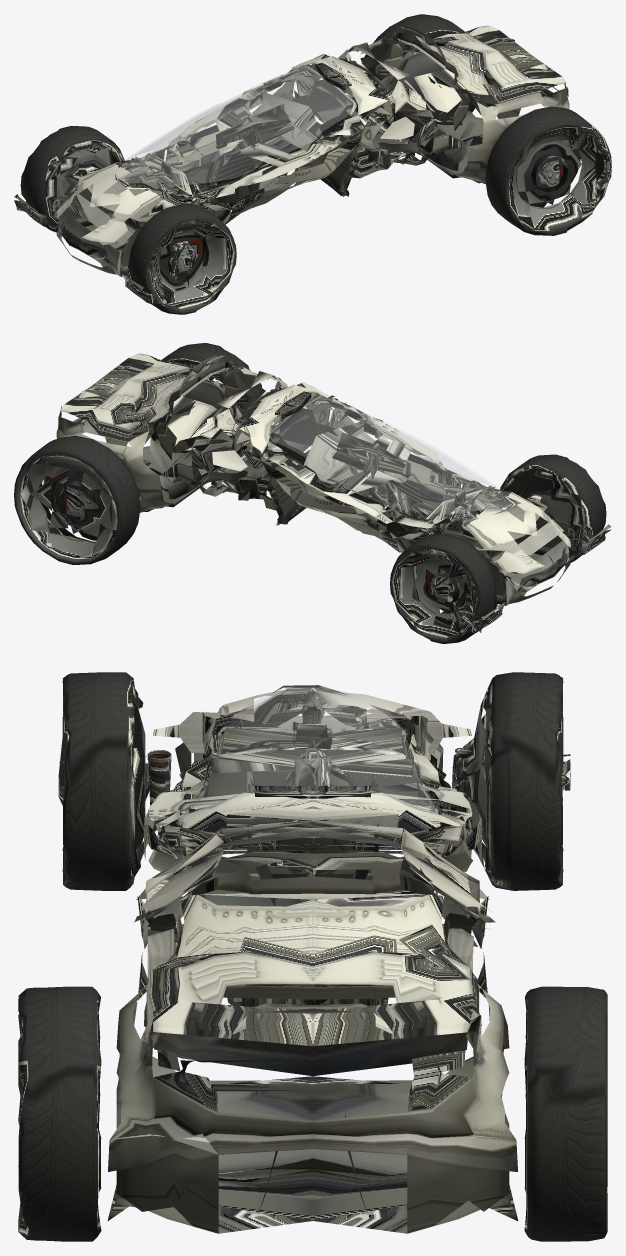
3 views of the same model, one above another, from view 1: azimuth 30°, elevation 25°; view 2: azimuth 150°, elevation 25°; view 3: azimuth 270°, elevation 25° (orthographic). The views are drawn at different scales.
Parts seen in each view (by area): view 1: Speed_car.007, Speed_car.000, Cube.045, Cube.044; view 2: Speed_car.007, Speed_car.000, Cube.045, Cube.044; view 3: Speed_car.007, Cube.044, Speed_car.000, Cube.045.
Part boxes in pixels (x1,y1,x2,y2): Speed_car.007: (56, 25, 580, 276); Speed_car.000: (14, 126, 236, 314); Cube.045: (118, 65, 356, 186); Cube.044: (364, 14, 611, 235); Speed_car.007: (43, 353, 570, 605); Speed_car.000: (390, 454, 611, 643); Cube.045: (269, 395, 512, 514); Cube.044: (14, 343, 261, 564); Speed_car.007: (107, 685, 518, 1233); Cube.044: (18, 986, 607, 1241); Speed_car.000: (58, 672, 570, 890); Cube.045: (193, 687, 434, 810).
Size of the model in its own units: 6.32 by 2.01 by 3.35.
Materials: 3 (1 with a texture image).
